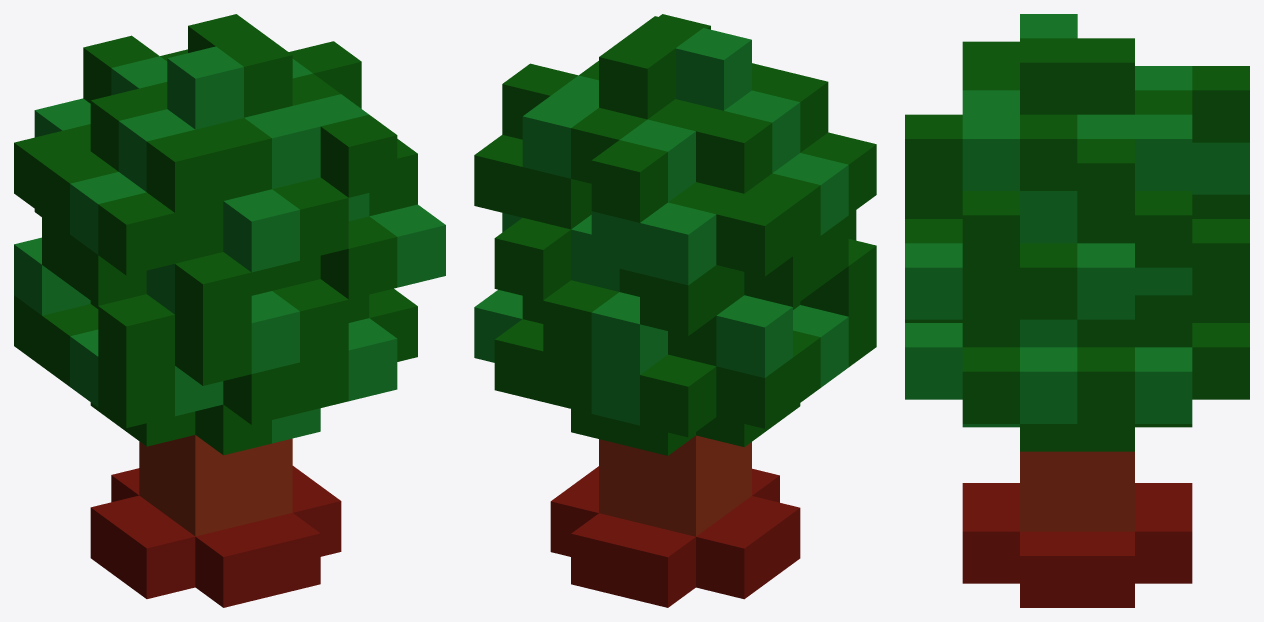
The model's file is tree1.fbx.
3 renders of one model, left to right at view 1: azimuth 30°, elevation 25°; view 2: azimuth 150°, elevation 25°; view 3: azimuth 270°, elevation 25°, orthographic. The views are drawn at different scales.
Parts seen in each view (by area): view 1: tree1.layer; view 2: tree1.layer; view 3: tree1.layer.
Boxes of the visible parts, x1,y1,x2,y2 form: tree1.layer: [14, 14, 445, 607]; tree1.layer: [474, 14, 876, 607]; tree1.layer: [905, 14, 1249, 607].
Bounding box in the file's own units: 60 × 60 × 100.
Materials: 1 (1 with a texture image).
